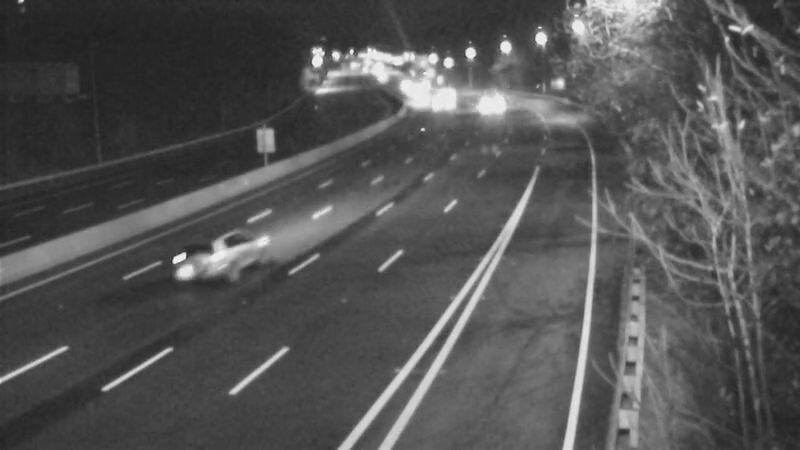vehicle: (173, 217, 253, 297), (464, 80, 514, 130), (413, 79, 463, 129)
